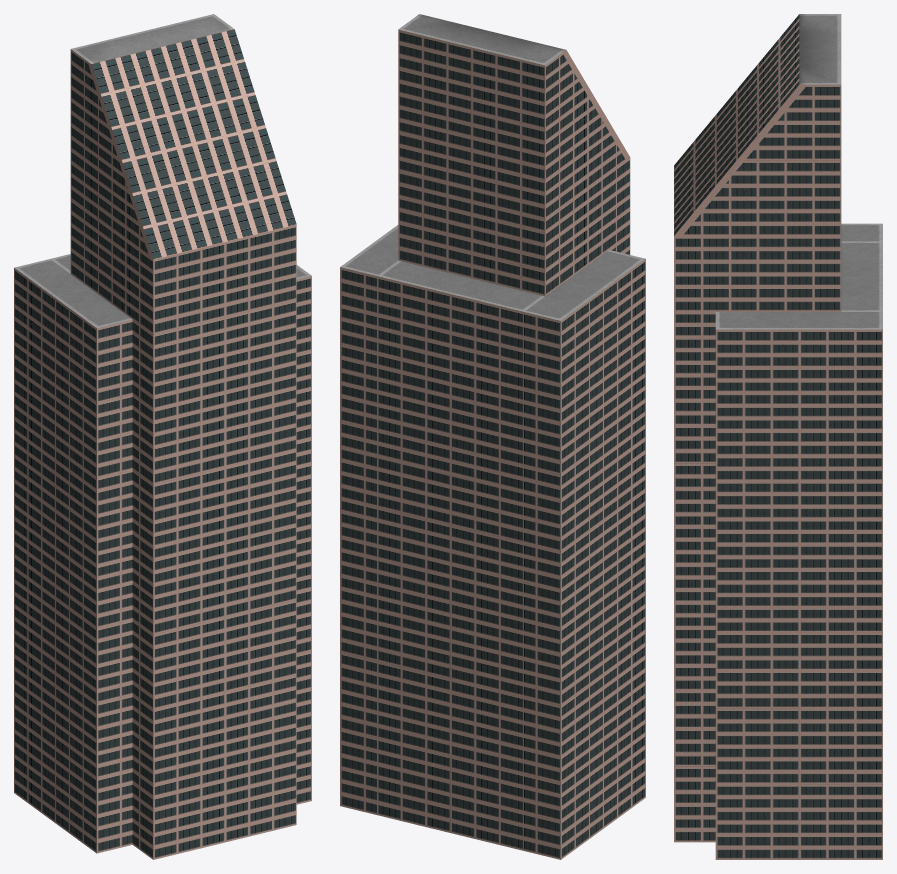
Rendered from hotel.glb.
3 renders of one model, left to right at view 1: azimuth 30°, elevation 25°; view 2: azimuth 150°, elevation 25°; view 3: azimuth 270°, elevation 25°, orthographic. The views are drawn at different scales.
Parts seen in each view (by area): view 1: Building_squareSlopetop; view 2: Building_squareSlopetop; view 3: Building_squareSlopetop.
Boxes of the visible parts, x1,y1,x2,y2 form: Building_squareSlopetop: (14, 14, 311, 859); Building_squareSlopetop: (340, 14, 645, 859); Building_squareSlopetop: (674, 14, 882, 859).
Bounding box in the file's own units: 45 × 150 × 37.5.
1 material, 1 textured.
